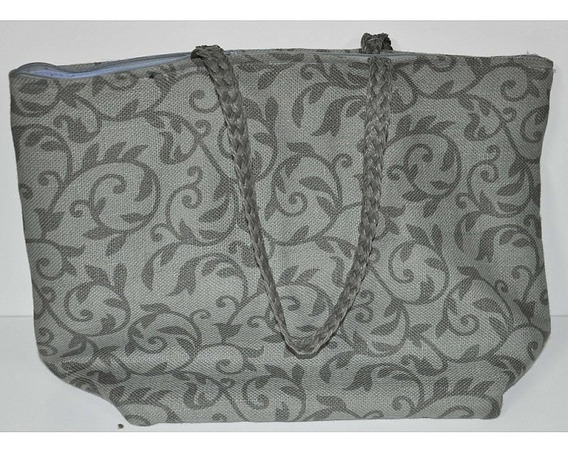cartera: (12, 33, 555, 421)
